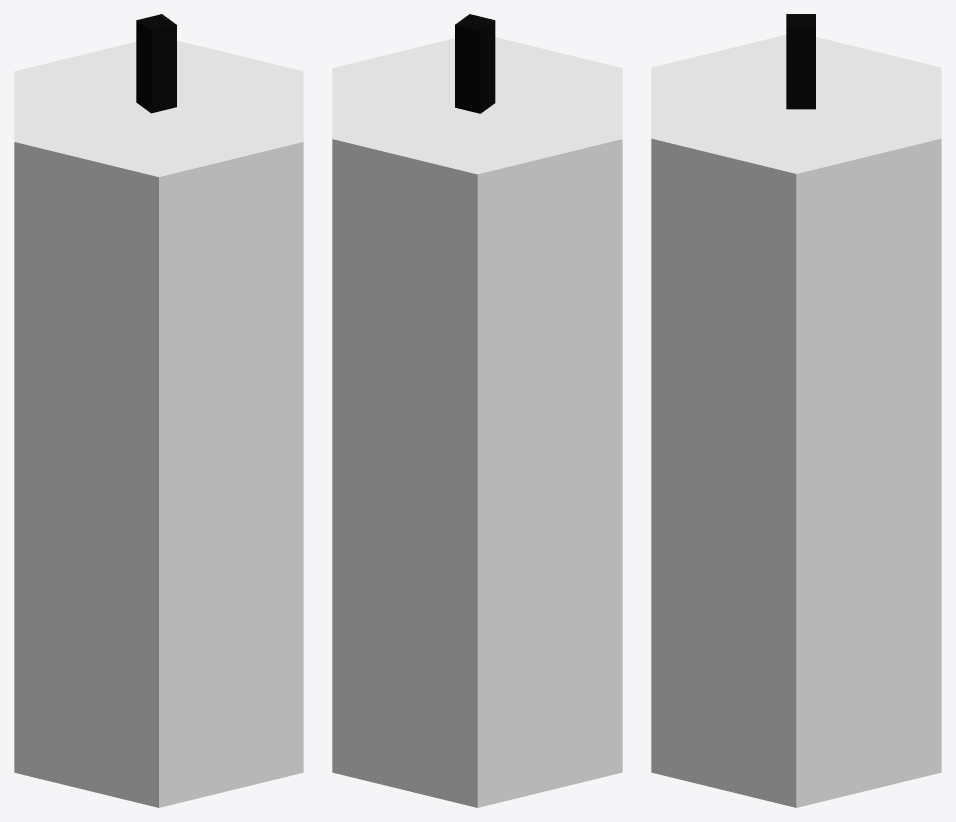
Rendered from kynttila4_white.FBX.
The picture shows the model from 3 angles, left to right: view 1: azimuth 30°, elevation 25°; view 2: azimuth 150°, elevation 25°; view 3: azimuth 270°, elevation 25°; orthographic projection.
Visible parts, largest first — view 1: Kynttila4_white; view 2: Kynttila4_white; view 3: Kynttila4_white.
Boxes of the visible parts, left/top/right/bottom form: Kynttila4_white: left=14, top=14, right=303, bottom=807; Kynttila4_white: left=332, top=14, right=622, bottom=807; Kynttila4_white: left=651, top=14, right=941, bottom=807.
Bounding box in the file's own units: 27.11 × 63.9 × 23.48.
